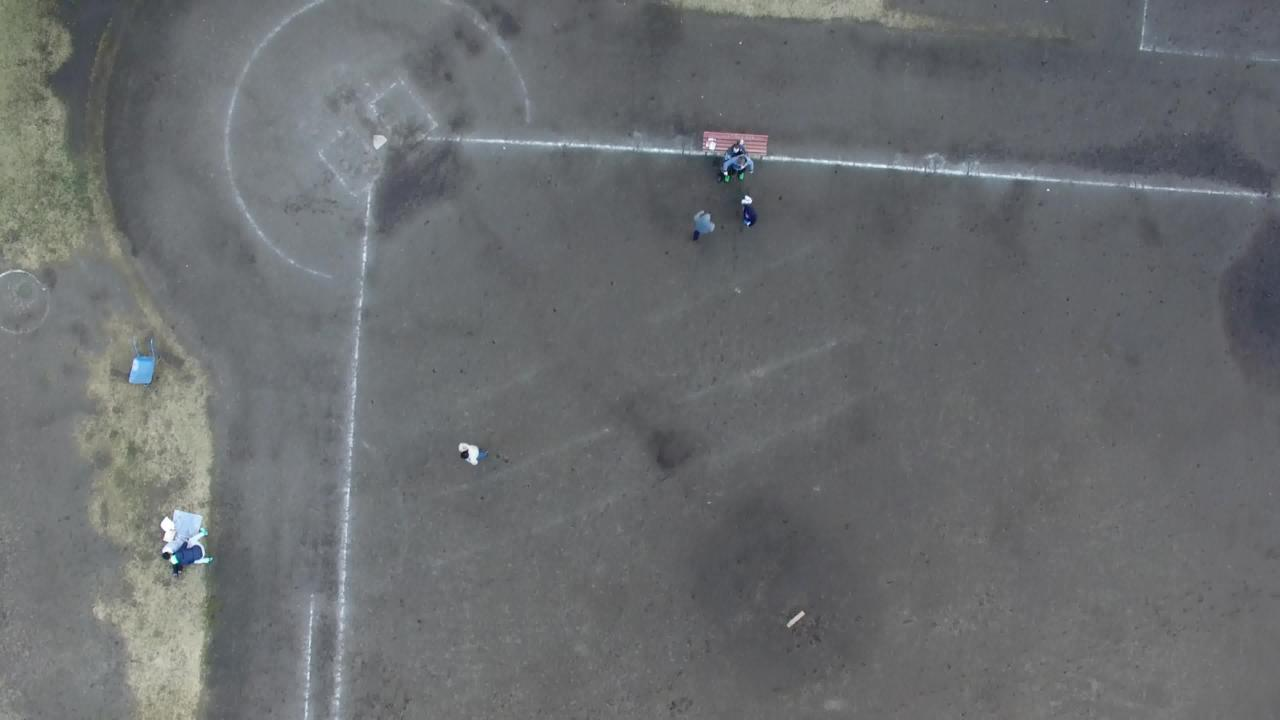person: (169, 529, 228, 575), (450, 428, 493, 475), (735, 190, 764, 248), (682, 202, 712, 251), (730, 154, 752, 178), (730, 137, 746, 156), (159, 544, 172, 561)
